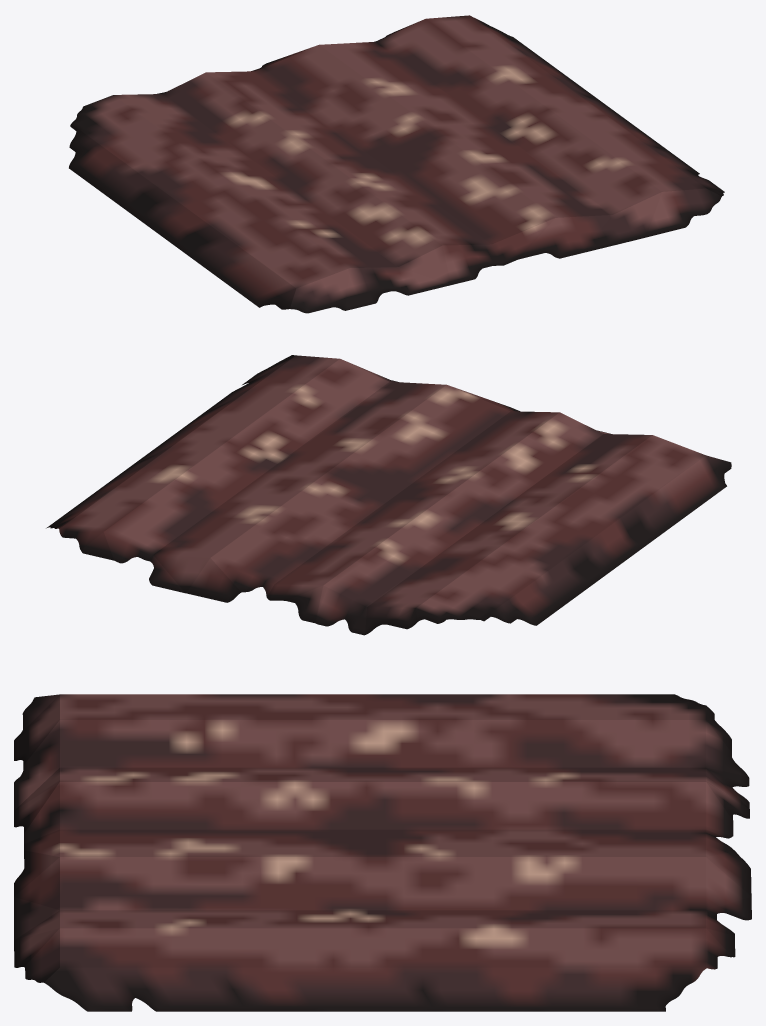
File: pje_plant_ground.fbx
3 renders of one model, top to bottom at view 1: azimuth 30°, elevation 25°; view 2: azimuth 150°, elevation 25°; view 3: azimuth 270°, elevation 25°, orthographic. The views are drawn at different scales.
Visible parts, largest first — view 1: ground.001; view 2: ground.001; view 3: ground.001.
Part boxes in pixels (box(x1,y1,x2,y2)): ground.001: box(69, 15, 724, 313); ground.001: box(46, 355, 731, 635); ground.001: box(14, 694, 751, 1011).
Size of the model in its own units: 100 by 5.18 by 100.
1 material, 1 textured.
